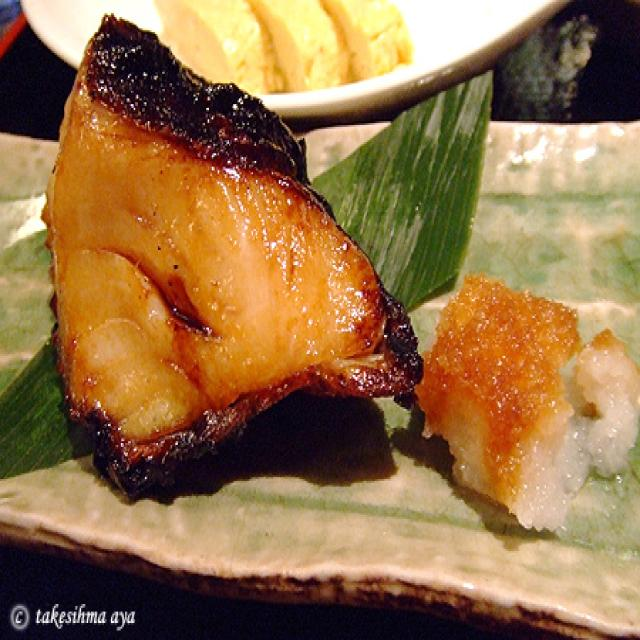熟制海鲜: (36, 0, 428, 540)
